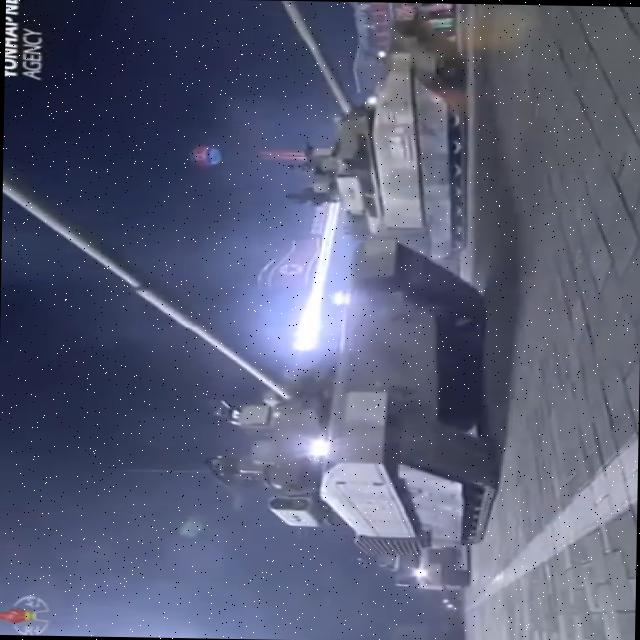north tank: (0, 201, 508, 594), (240, 0, 477, 259)
